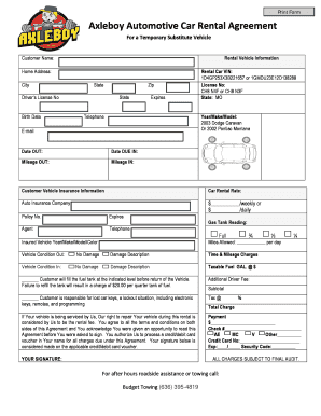checkbox: (238, 230, 247, 238), (283, 230, 292, 238), (100, 251, 110, 258), (210, 230, 219, 237), (261, 230, 269, 237), (66, 251, 77, 256), (101, 264, 111, 269), (258, 330, 265, 336), (67, 264, 75, 269), (244, 331, 252, 336), (223, 331, 232, 335), (207, 331, 213, 335)
textbox: (256, 111, 310, 182), (197, 92, 309, 116), (15, 156, 112, 182), (107, 156, 202, 182), (57, 55, 197, 69), (57, 67, 196, 81), (69, 198, 193, 213), (45, 130, 186, 143), (105, 145, 200, 161), (16, 147, 110, 162), (98, 238, 196, 252), (107, 115, 190, 128), (39, 212, 109, 227), (128, 212, 196, 227), (36, 225, 105, 238), (129, 226, 197, 239), (36, 81, 91, 95), (39, 99, 89, 113), (43, 114, 85, 128), (164, 79, 192, 95), (111, 81, 138, 96), (120, 99, 148, 113), (166, 100, 194, 113)
textline: (211, 320, 277, 327), (240, 338, 300, 345), (224, 327, 303, 332), (237, 240, 265, 246), (271, 345, 297, 350), (217, 344, 238, 350), (20, 295, 38, 302), (278, 333, 301, 338), (22, 278, 41, 283)
